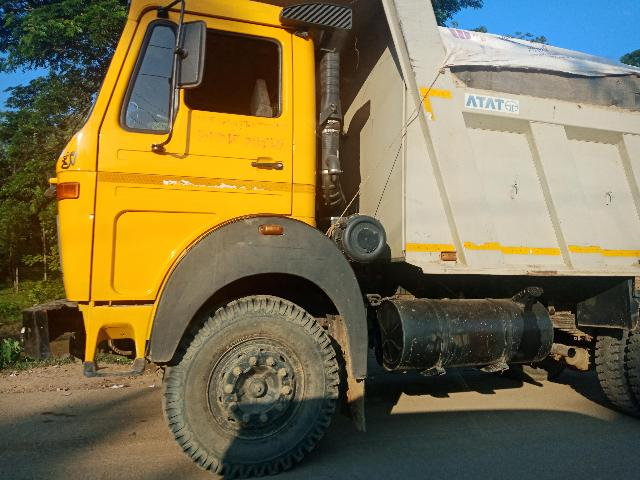truck: (32, 0, 640, 465)
